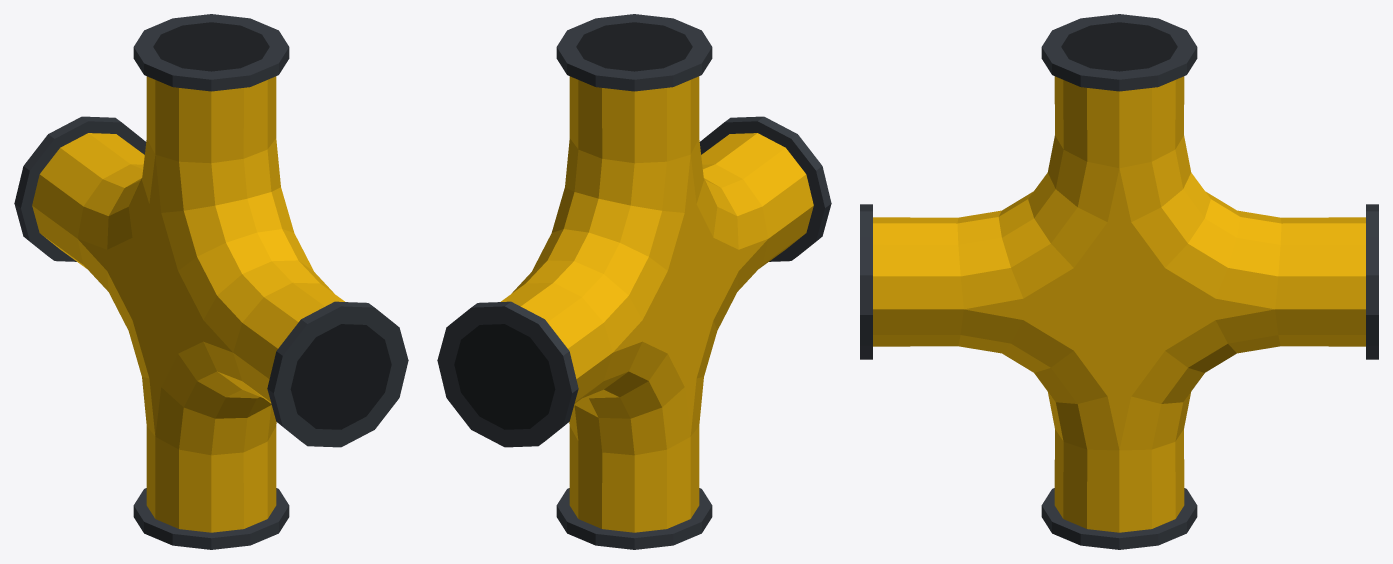
Rendered from Pipe_0.5x1_Junction.fbx.
The picture shows the model from 3 angles, left to right: view 1: azimuth 30°, elevation 25°; view 2: azimuth 150°, elevation 25°; view 3: azimuth 270°, elevation 25°; orthographic projection.
Parts seen in each view (by area): view 1: Pipe_0.5x1_Junction; view 2: Pipe_0.5x1_Junction; view 3: Pipe_0.5x1_Junction.
Part boxes in pixels (x1,y1,x2,y2): Pipe_0.5x1_Junction: [14, 14, 408, 549]; Pipe_0.5x1_Junction: [437, 14, 831, 549]; Pipe_0.5x1_Junction: [860, 14, 1378, 549].
Bounding box in the file's own units: 60 × 200 × 200.
